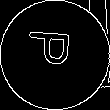P_E: (28, 35, 82, 75)
